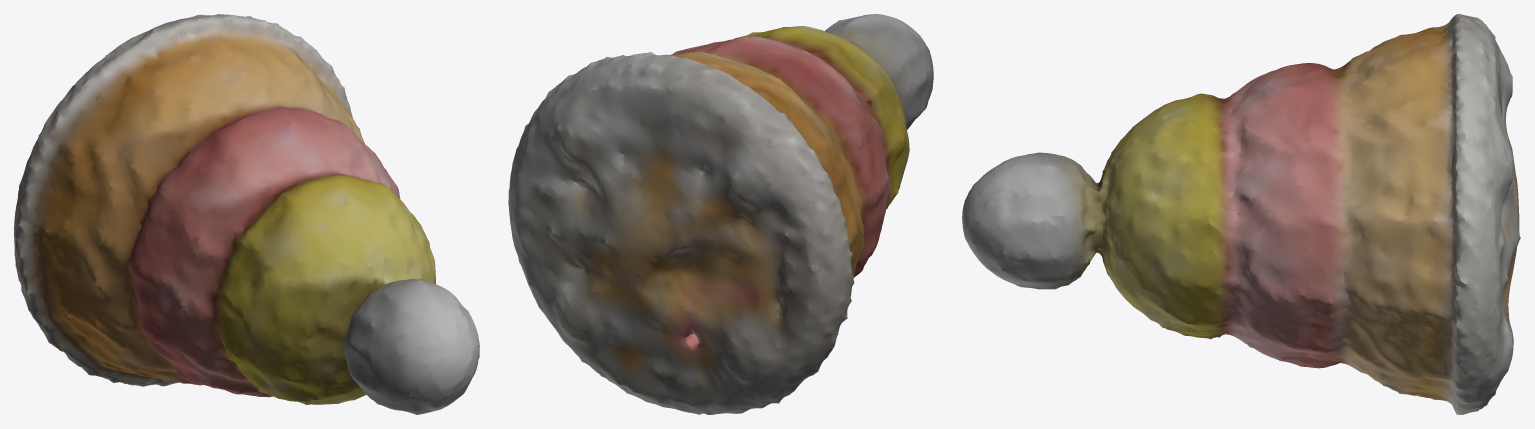
The model's file is chicken.glb.
3 views of the same model, side by side, from view 1: azimuth 30°, elevation 25°; view 2: azimuth 150°, elevation 25°; view 3: azimuth 270°, elevation 25° (orthographic). The views are drawn at different scales.
Size of the model in its own units: 0.7238 by 0.7191 by 0.998.
